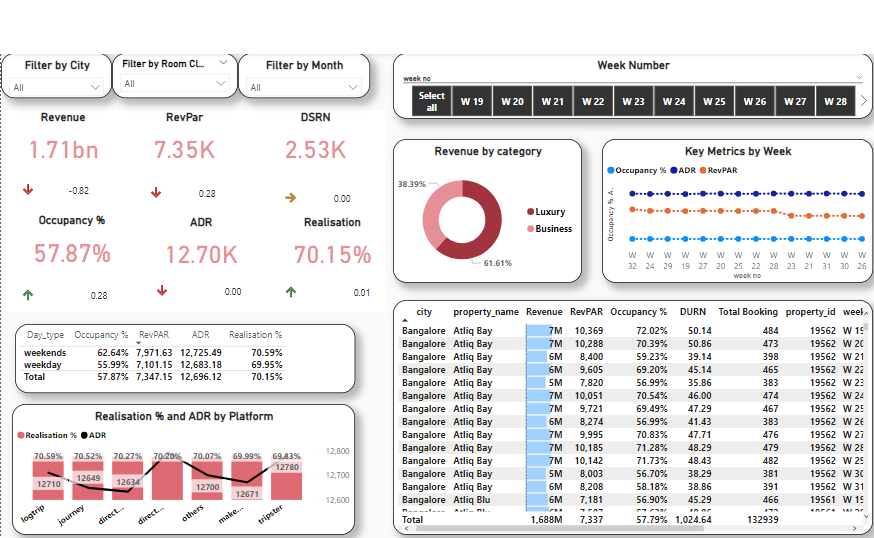

Layout of this report page (visuals, bound fields, positions):
{"tool":"powerbi","page":{"name":"Dashboard","canvas":[1280,720],"ordinal":0},"visuals":[{"type":"tableEx","fields":{"Values":["Dime_hotels.city","Dime_hotels.property_name","Key_Measure.Revenue","Key_Measure.RevPAR","Key_Measure.Occupancy %","Key_Measure.DURN","Key_Measure.Total Booking","Dime_hotels.property_id","Dim-date.week no","Key_Measure.Average Rating","Key_Measure.Realisation %","Key_Measure.Cancellation %"]},"box":[572.5,360.7,701,343.2],"z":0},{"type":"slicer","title":"Filter by City","fields":{"Values":["Dime_hotels.city"]},"box":[0,0,162.4,65.7],"z":1,"group":"g2"},{"type":"slicer","fields":{"Values":["Dim_rooms.room_class"]},"box":[162.4,0,183.7,65.7],"z":2,"group":"g2"},{"type":"slicer","title":"Filter by Month","fields":{"Values":["Dim-date.mmm yy"]},"box":[346.1,0,192.8,65.7],"z":5,"group":"g2"},{"type":"slicer","title":"Week Number","fields":{"Values":["Dim-date.week no"]},"box":[572.5,0,701,96.4],"z":6},{"type":"card","title":"Revenue","fields":{"Values":["Key_Measure.Revenue"]},"box":[4.4,83.2,172.7,90.2],"z":7,"group":"g1"},{"type":"tableEx","fields":{"Values":["Key_Measure.Revpar WoW change %"]},"box":[208.1,165.1,137.3,62.8],"z":8,"group":"g1"},{"type":"donutChart","fields":{"Category":["Dime_hotels.category"],"Y":["Key_Measure.Revenue"]},"box":[572.5,125.6,276,210.3],"z":9},{"type":"lineStackedColumnComboChart","title":"Realisation % and ADR by Platform","fields":{"Category":["Fact_bookings.booking_platform"],"Y":["Key_Measure.Realisation %"],"Y2":["Key_Measure.ADR"]},"box":[16.1,512.6,500.9,191.3],"z":10},{"type":"lineChart","title":"Key Metrics by Week ","fields":{"Y":["Key_Measure.Occupancy %","Key_Measure.ADR","Key_Measure.RevPAR"],"Category":["Dim-date.week no"]},"box":[877.7,125.6,395.8,210.3],"z":11},{"type":"card","title":"RevPar","fields":{"Values":["Key_Measure.RevPAR"]},"box":[191.8,83.2,153.5,88.9],"z":12,"group":"g1"},{"type":"card","title":"DSRN","fields":{"Values":["Key_Measure.DSRN"]},"box":[369,83.6,180.1,88.9],"z":13,"group":"g1"},{"type":"tableEx","fields":{"Values":["Key_Measure.Revenue WoW change %"]},"box":[20.6,161.1,121,54.9],"z":14,"group":"g1"},{"type":"tableEx","fields":{"Values":["Key_Measure.DSRN WoW change %"]},"box":[404.4,172.1,129.9,64.1],"z":15,"group":"g1"},{"type":"card","title":"Occupancy %","fields":{"Values":["Key_Measure.Occupancy %"]},"box":[39.8,233.1,128.4,91.5],"z":16,"group":"g1"},{"type":"card","title":"ADR","fields":{"Values":["Key_Measure.ADR"]},"box":[200.7,236.2,184.5,88.9],"z":17,"group":"g1"},{"type":"card","title":"Realisation","fields":{"Values":["Key_Measure.Realisation %"]},"box":[419.1,236.2,129.9,88.9],"z":18,"group":"g1"},{"type":"tableEx","fields":{"Values":["Key_Measure.Occupancy WoW change %"]},"box":[20.6,314.1,147.6,64.1],"z":19,"group":"g1"},{"type":"tableEx","fields":{"Values":["Key_Measure.ADR WoW change %"]},"box":[215.5,307.6,156.4,69.3],"z":20,"group":"g1"},{"type":"tableEx","fields":{"Values":["Key_Measure.Realisation WoW change %"]},"box":[404.4,309.8,156.4,66.7],"z":21,"group":"g1"},{"type":"tableEx","fields":{"Values":["Dim-date.Day_type","Key_Measure.Occupancy %","Key_Measure.RevPAR","Key_Measure.ADR","Key_Measure.Realisation %"]},"box":[20.4,395.8,496.6,100.8],"z":22},{"type":"group","id":"g1","title":"Group 1","box":[4.4,83.2,556.4,295],"z":23},{"type":"group","id":"g2","title":"Group 2","box":[0,0,538.9,65.7],"z":24}]}

Visuals, with their boxes on the page's 1280x720 design canvas (x1, y1, x2, y2). These are canvas units, not pixel positions in the 874x538 screenshot, which may show the page scaled, cropped or inside an application window:
tableEx - Dime_hotels.city x Dime_hotels.property_name: bbox=[572, 361, 1274, 704]
"Filter by City" slicer: bbox=[0, 0, 162, 66]
slicer - Dim_rooms.room_class: bbox=[162, 0, 346, 66]
"Filter by Month" slicer: bbox=[346, 0, 539, 66]
"Week Number" slicer: bbox=[572, 0, 1274, 96]
"Revenue" card: bbox=[4, 83, 177, 173]
tableEx - Key_Measure.Revpar WoW change %: bbox=[208, 165, 345, 228]
donutChart - Dime_hotels.category x Key_Measure.Revenue: bbox=[572, 126, 848, 336]
"Realisation % and ADR by Platform" lineStackedColumnComboChart: bbox=[16, 513, 517, 704]
"Key Metrics by Week " lineChart: bbox=[878, 126, 1274, 336]
"RevPar" card: bbox=[192, 83, 345, 172]
"DSRN" card: bbox=[369, 84, 549, 172]
tableEx - Key_Measure.Revenue WoW change %: bbox=[21, 161, 142, 216]
tableEx - Key_Measure.DSRN WoW change %: bbox=[404, 172, 534, 236]
"Occupancy %" card: bbox=[40, 233, 168, 325]
"ADR" card: bbox=[201, 236, 385, 325]
"Realisation" card: bbox=[419, 236, 549, 325]
tableEx - Key_Measure.Occupancy WoW change %: bbox=[21, 314, 168, 378]
tableEx - Key_Measure.ADR WoW change %: bbox=[216, 308, 372, 377]
tableEx - Key_Measure.Realisation WoW change %: bbox=[404, 310, 561, 376]
tableEx - Dim-date.Day_type x Key_Measure.Occupancy %: bbox=[20, 396, 517, 497]
"Group 1" group: bbox=[4, 83, 561, 378]
"Group 2" group: bbox=[0, 0, 539, 66]
